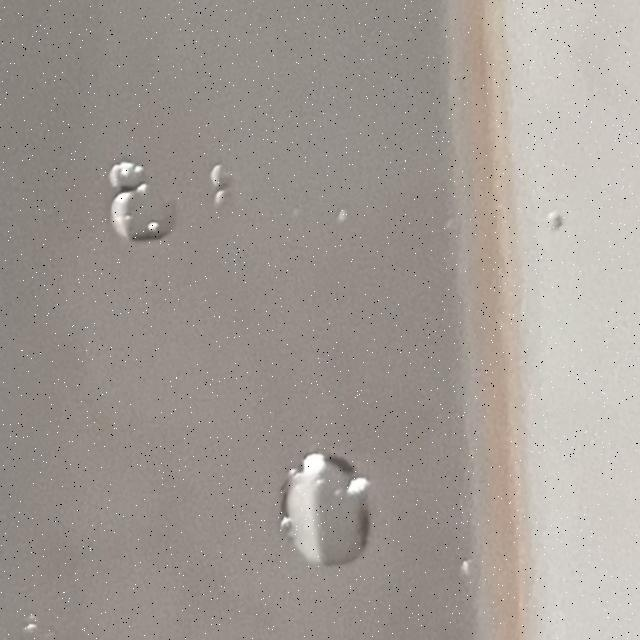raindrop: (278, 439, 397, 578), (109, 163, 181, 246), (97, 132, 157, 200), (452, 555, 474, 594), (208, 138, 212, 146)
